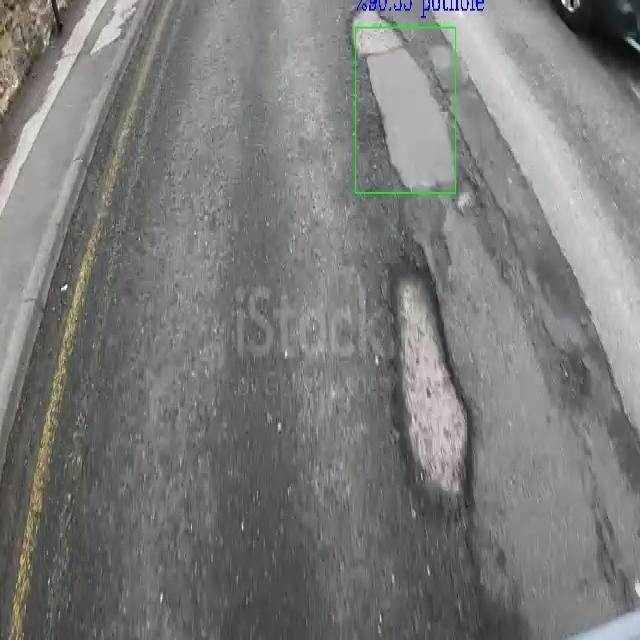pothole: (387, 243, 475, 529), (358, 28, 454, 189)
